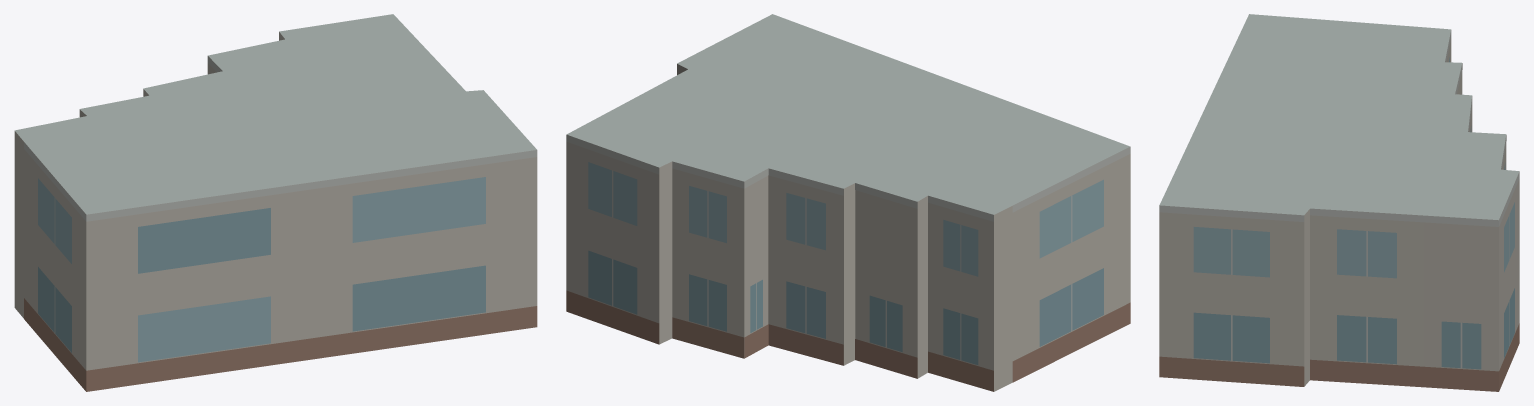
Rendered from survey-upis-32870777.glb.
3 views of the same model, side by side, from view 1: azimuth 30°, elevation 25°; view 2: azimuth 150°, elevation 25°; view 3: azimuth 270°, elevation 25° (orthographic). The views are drawn at different scales.
Parts seen in each view (by area): view 1: survey-upis-32870777.tmp; view 2: survey-upis-32870777.tmp; view 3: survey-upis-32870777.tmp.
Part boxes in pixels (x1,y1,x2,y2): survey-upis-32870777.tmp: [14, 14, 537, 391]; survey-upis-32870777.tmp: [566, 14, 1130, 391]; survey-upis-32870777.tmp: [1159, 14, 1519, 391].
Size of the model in its own units: 15.71 by 6.1 by 11.61.
